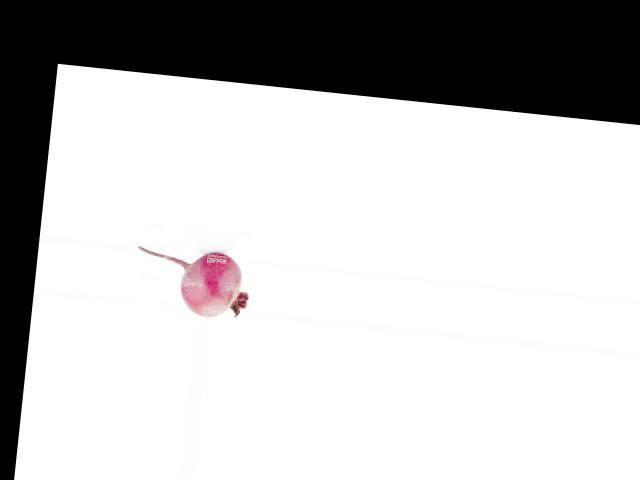beet: (132, 244, 253, 320)
